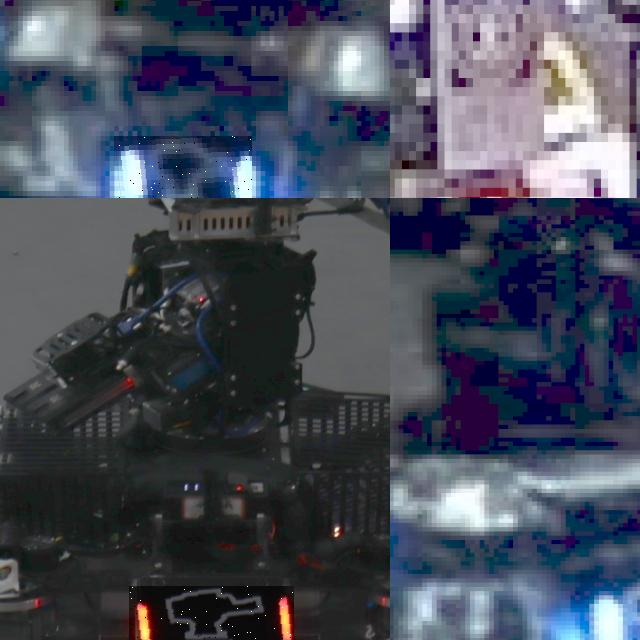Bs: (114, 136, 251, 198), (599, 586, 640, 640)
Rs: (128, 586, 294, 640)
